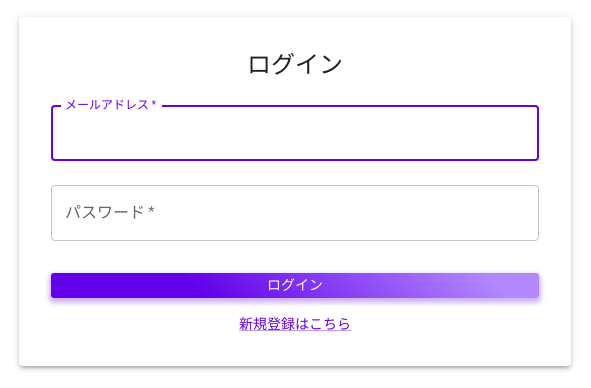
Test: LoginForm › disables form during submission
Type "test@example.com" into the field labelled "メールアドレス *". click: (295, 133)
box: x1=51 y1=105 x2=539 y2=161
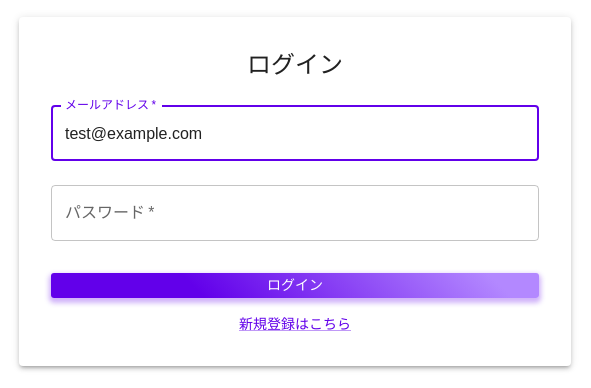
Type "password123" into the password field labelled "パスワード *". click: (295, 213)
box: x1=51 y1=185 x2=539 y2=241
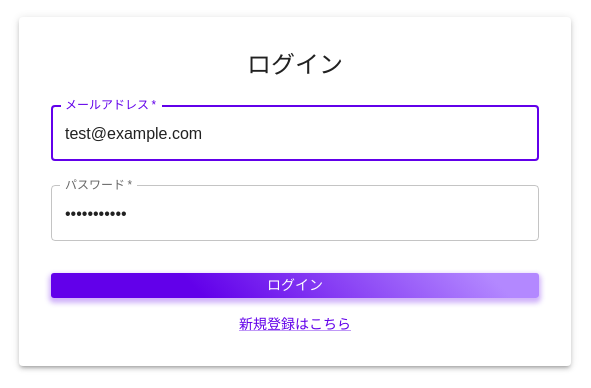
Click the button "ログイン". click: click(295, 286)
box: x1=51 y1=273 x2=539 y2=298
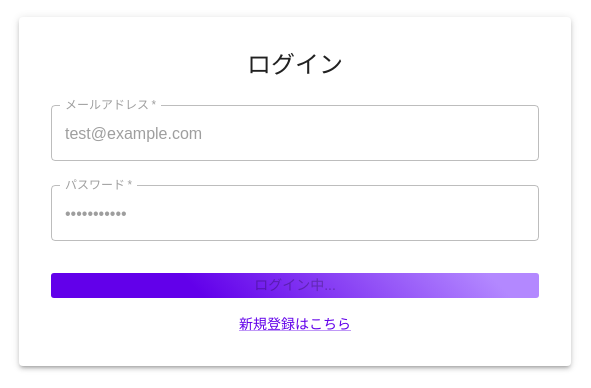
Check: the button "ログイン中..." is disabled, box x1=51 y1=273 x2=539 y2=298
Check: the field labelled "メールアドレス *" is disabled, box x1=51 y1=105 x2=539 y2=161
Check: the password field labelled "パスワード *" is disabled, box x1=51 y1=185 x2=539 y2=241
